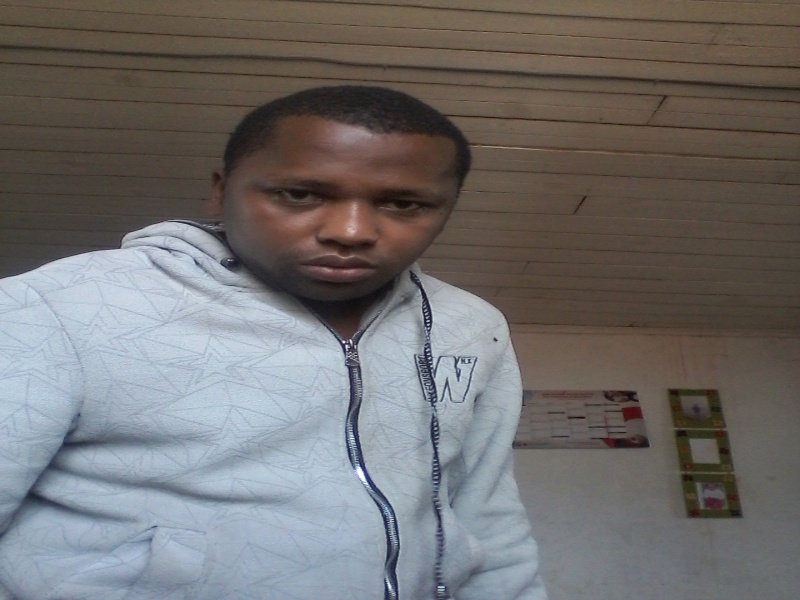TsisyArotava: (209, 78, 468, 344)
